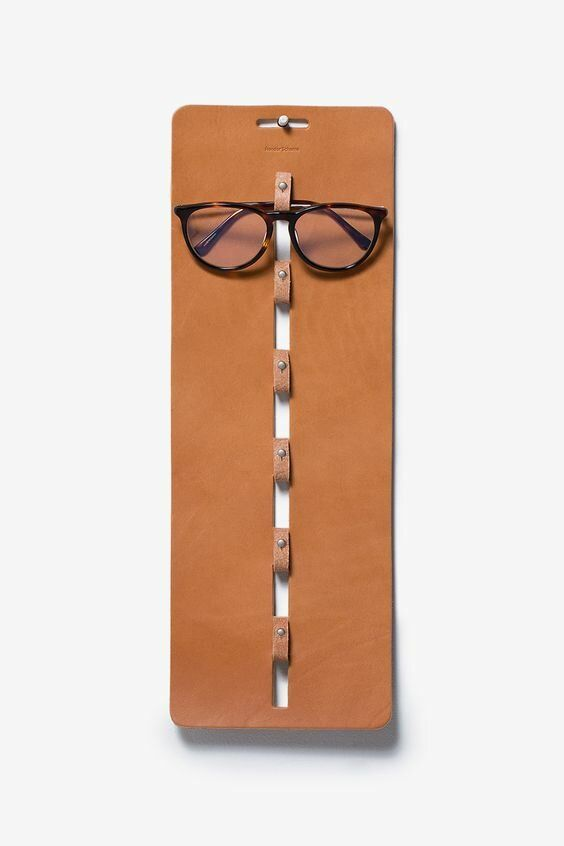cuero: (170, 103, 397, 729)
